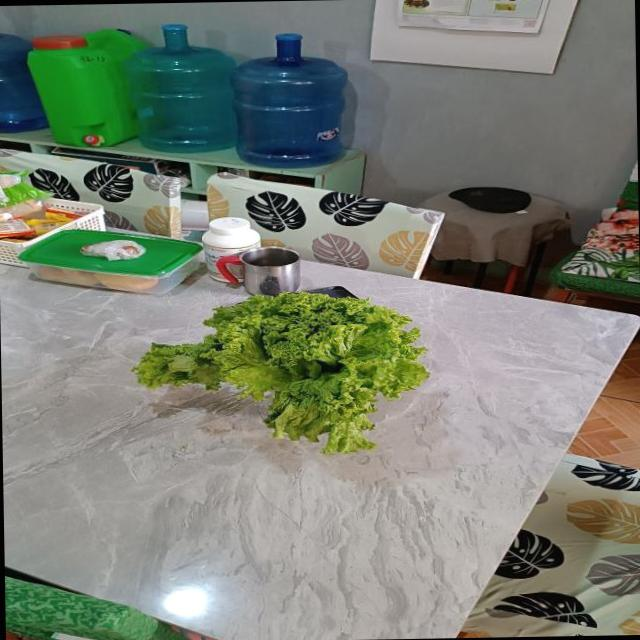Lettuce-Ready-to-Harvest: (133, 291, 428, 452)
